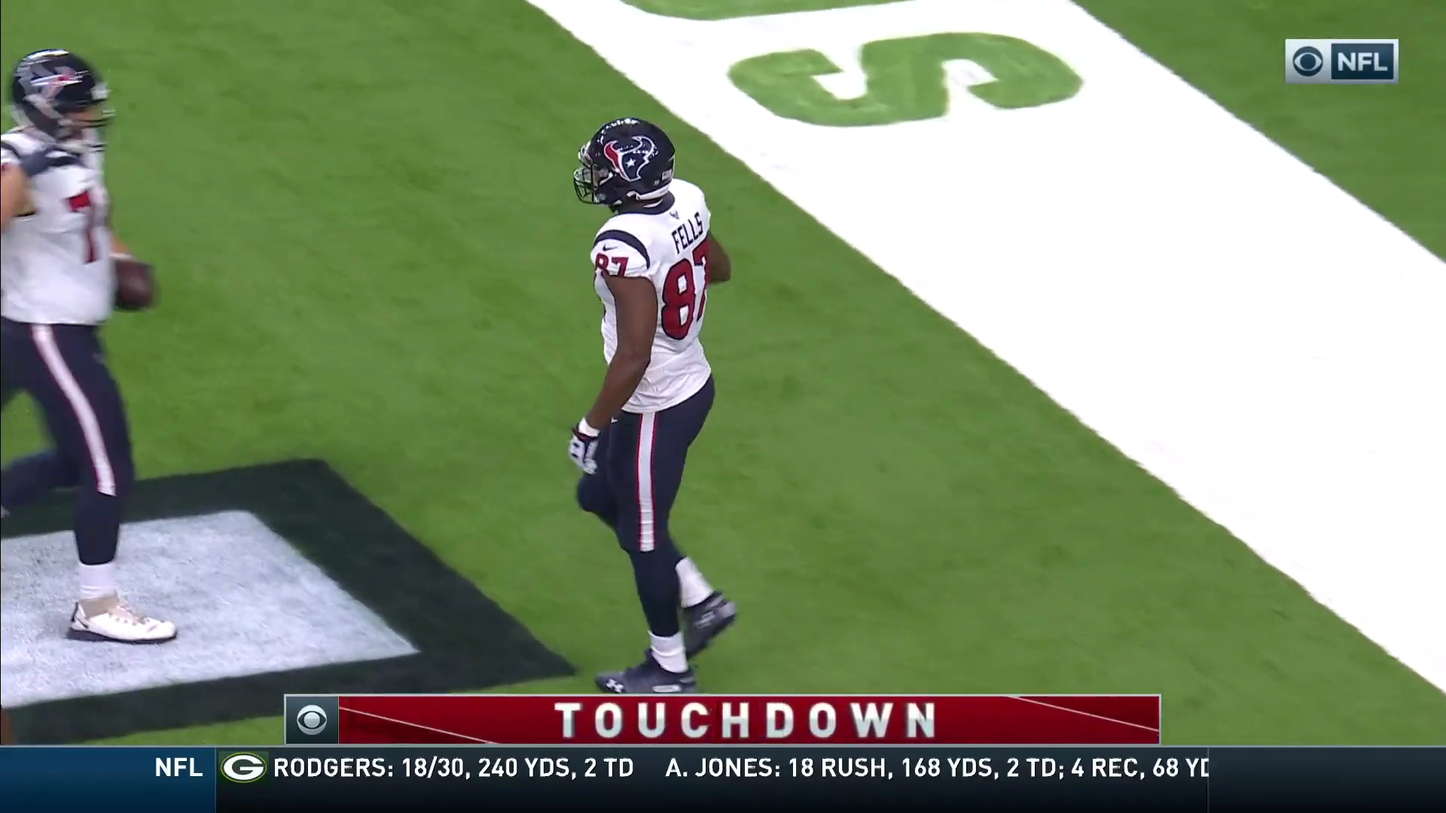Player: (0, 60, 137, 545), (567, 131, 726, 539)
